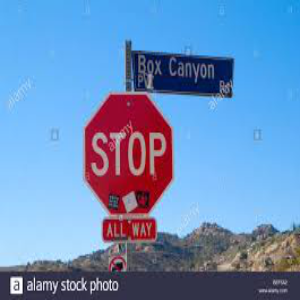STOP_SIGN: (82, 90, 176, 217)
